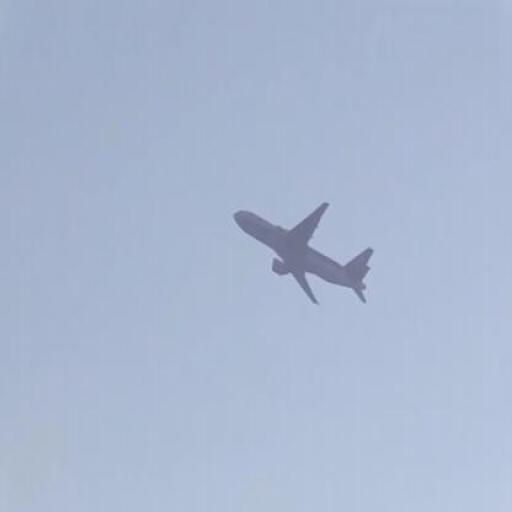aircraft: (232, 202, 376, 308)
